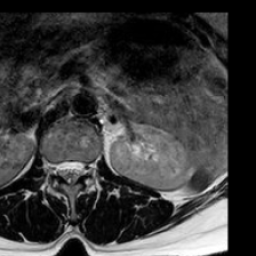CCS_normal: (66, 149, 75, 195)
LFS_normal: (84, 148, 93, 184)
LLS_normal: (75, 149, 84, 183)
RFS_normal: (47, 149, 56, 184)
RLS_normal: (56, 149, 66, 186)
